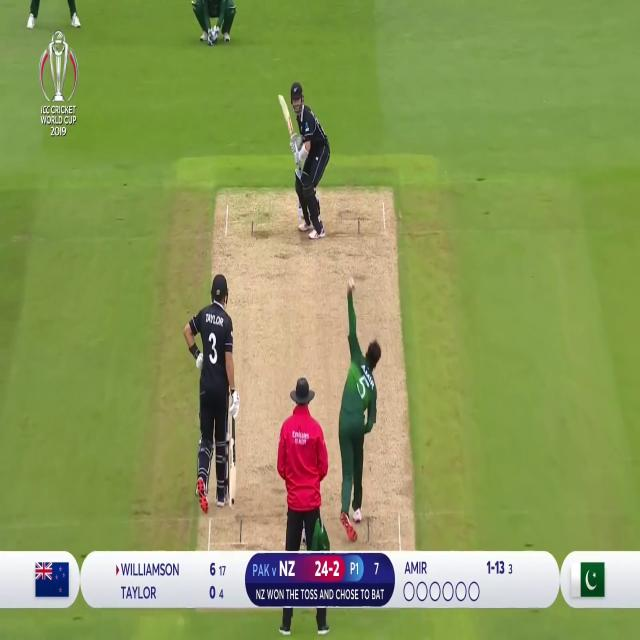bat: (228, 436, 241, 511), (277, 94, 294, 137)
toe: (227, 504, 235, 511)
